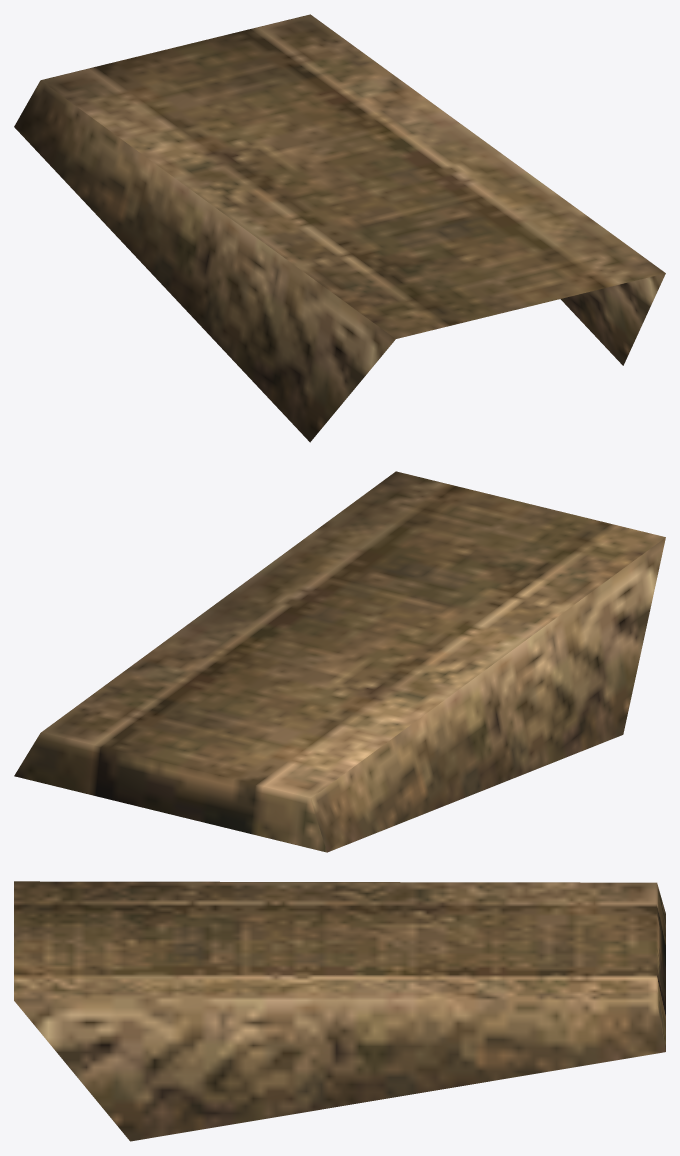
The model's file is stbuho68.dae.
3 views of the same model, one above another, from view 1: azimuth 30°, elevation 25°; view 2: azimuth 150°, elevation 25°; view 3: azimuth 270°, elevation 25° (orthographic). The views are drawn at different scales.
Visible parts, largest first — view 1: base2; view 2: base2; view 3: base2.
Boxes of the visible parts, x1,y1,x2,y2 form: base2: (14, 14, 665, 442); base2: (14, 471, 665, 852); base2: (14, 881, 665, 1141).
Size of the model in its own units: 0.8666 by 1.73 by 0.384.
Materials: 1 (1 with a texture image).
